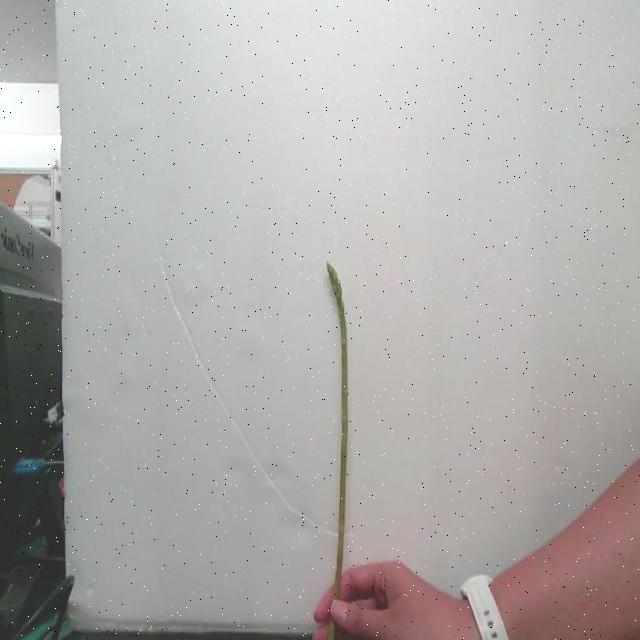aspargus: (328, 265, 350, 601)
